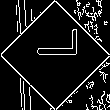L_W: (30, 40, 80, 70)
